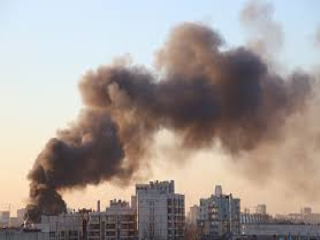smoke: (11, 22, 308, 215)
